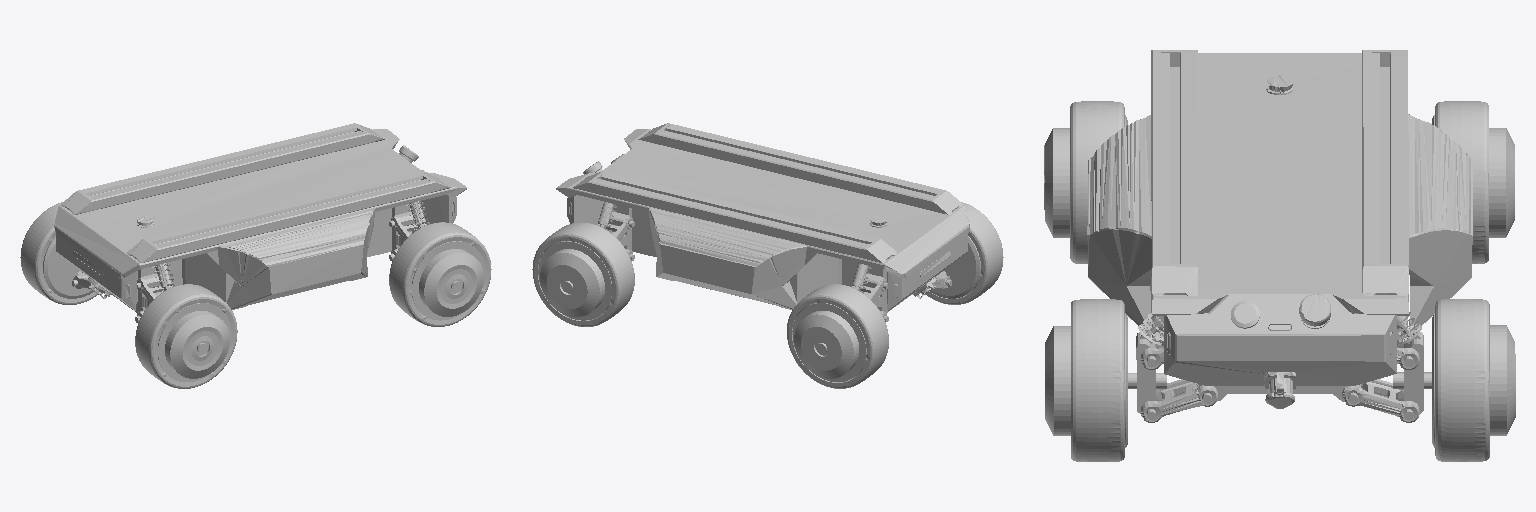
The robot description file, URDF, robot "yhs_chassis_description":
<robot name="yhs_chassis_description">
  <link name="base_link">
    <visual>
      <origin
        xyz="0.25 0.2 0"
        rpy="1.57 0 -1.57" />
      <geometry>
        <mesh
          filename="package://yhs_chassis_description/meshes/FR-mini.STL"/>
      </geometry>
      <material
        name="">
        <color
          rgba="0.8 0.8 0.8 1" />
      </material>
    </visual>
  </link>
</robot>

--- What the picture shows (computed from the rendered views, not written in the file) ---
Views: 3 orthographic renders of the robot side by side, from view 1: azimuth 30°, elevation 25°; view 2: azimuth 150°, elevation 25°; view 3: azimuth 270°, elevation 25°.
Model yhs_chassis_description with 1 links and 0 joints (none), rooted at base_link, posed all joints at 0.
Links seen in each view (by area): view 1: base_link; view 2: base_link; view 3: base_link.
Boxes of the visible links, left/top/right/bottom form: base_link: left=20, top=123, right=491, bottom=388; base_link: left=532, top=123, right=1003, bottom=388; base_link: left=1044, top=50, right=1515, bottom=461.
Size in the robot's own frame: 0.5415 by 0.4031 by 0.1873 metres.
1 mesh visuals loaded from 1 distinct referenced files (1 binary STL).
